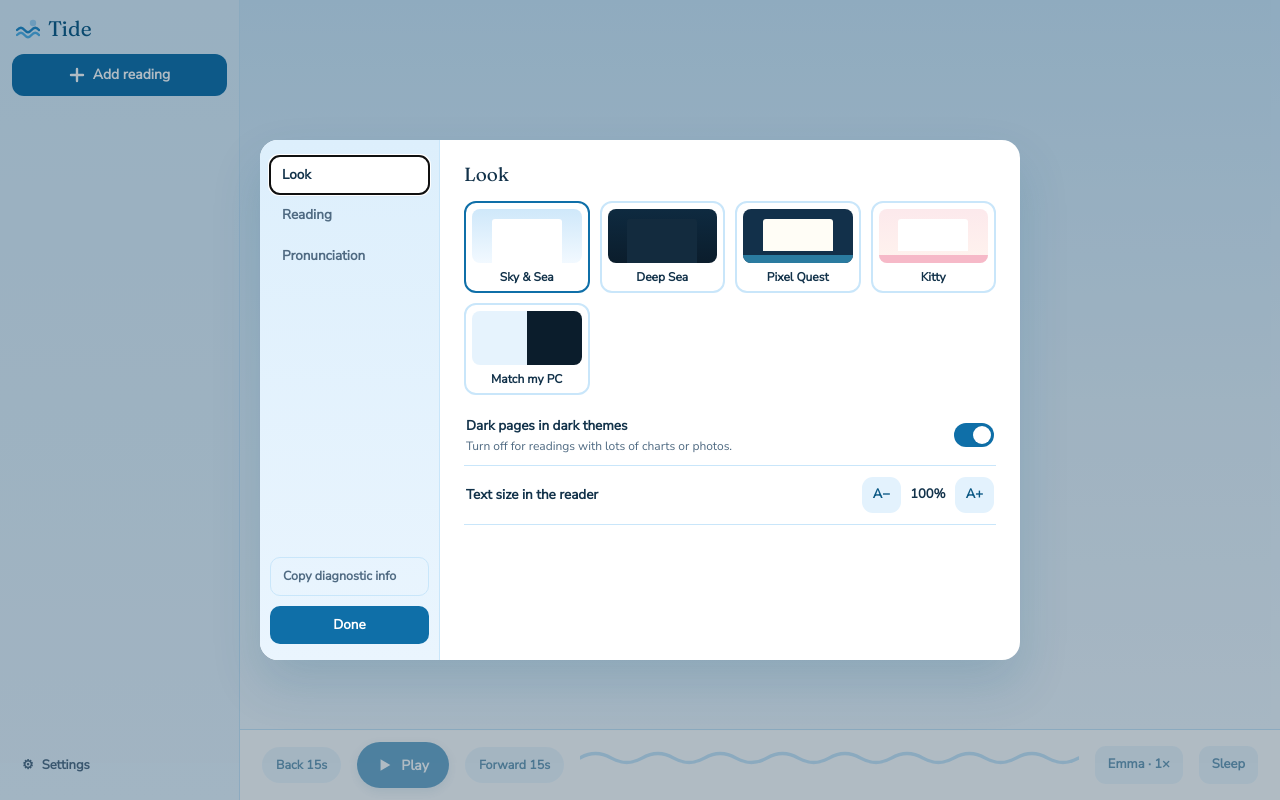
Scenario: Settings dialog › a failed theme change says so plainly
This screenshot has width=1280, height=800.
Click the radio button labelled "Deep Sea" at x=662, y=246, box [600,200,725,292]
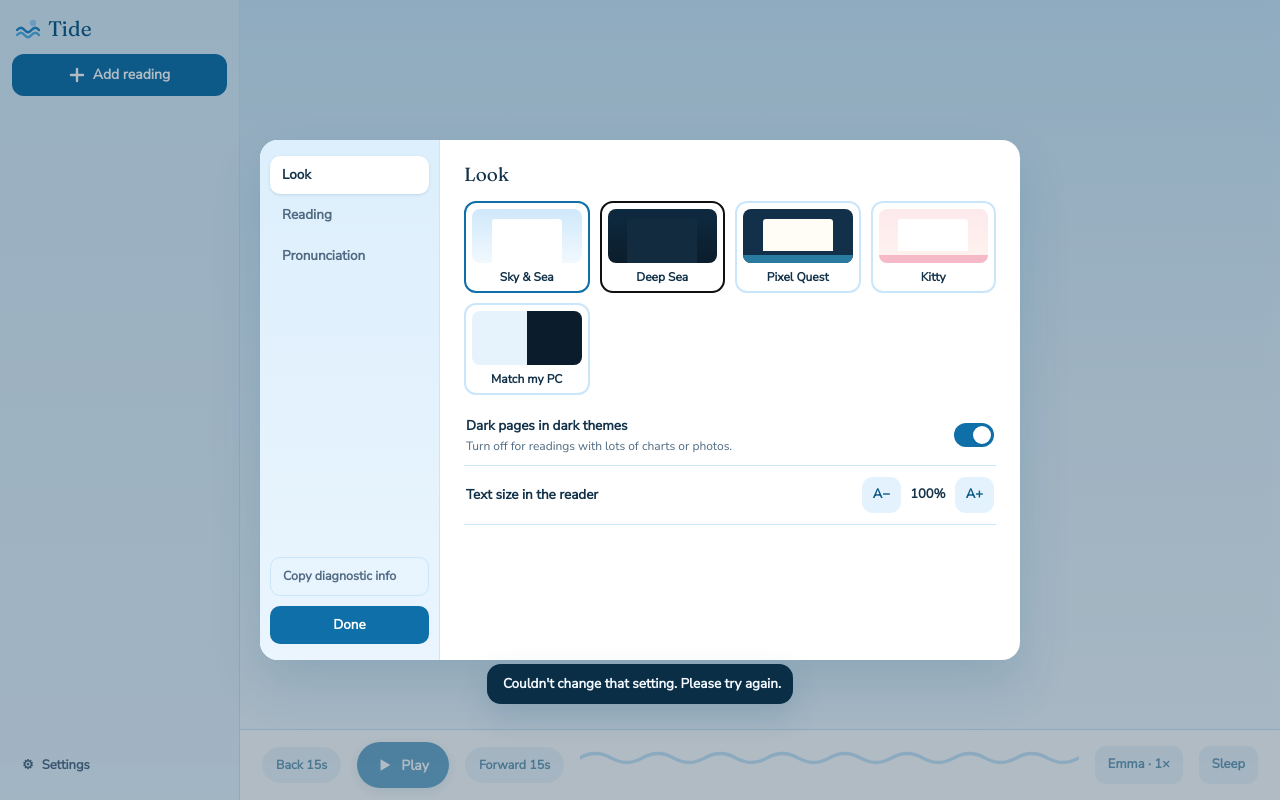
Expected: the text "Couldn't change that setting. Please try again." is shown, [503,674,781,694]
